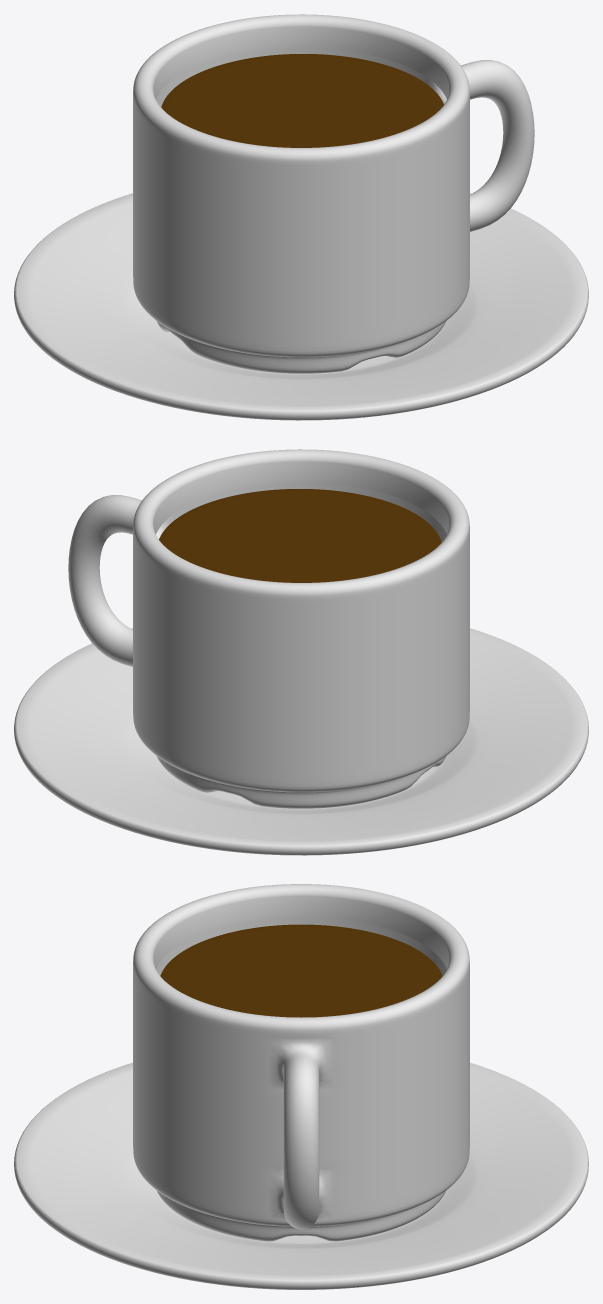
File: CoffeeMugSips.fbx
3 views of the same model, one above another, from view 1: azimuth 30°, elevation 25°; view 2: azimuth 150°, elevation 25°; view 3: azimuth 270°, elevation 25° (orthographic).
Parts seen in each view (by area): view 1: Cup, Plate, CoffeeLevel; view 2: Cup, Plate, CoffeeLevel; view 3: Cup, Plate, CoffeeLevel.
Part boxes in pixels (box(x1,y1,x2,y2)): Cup: box(133, 14, 534, 373); Plate: box(14, 193, 588, 420); CoffeeLevel: box(161, 54, 443, 147); Cup: box(68, 449, 469, 808); Plate: box(14, 628, 588, 855); CoffeeLevel: box(159, 489, 441, 582); Cup: box(133, 884, 469, 1241); Plate: box(14, 1062, 588, 1289); CoffeeLevel: box(160, 924, 442, 1017).
Bounding box in the file's own units: 10.57 × 4.92 × 10.57.
